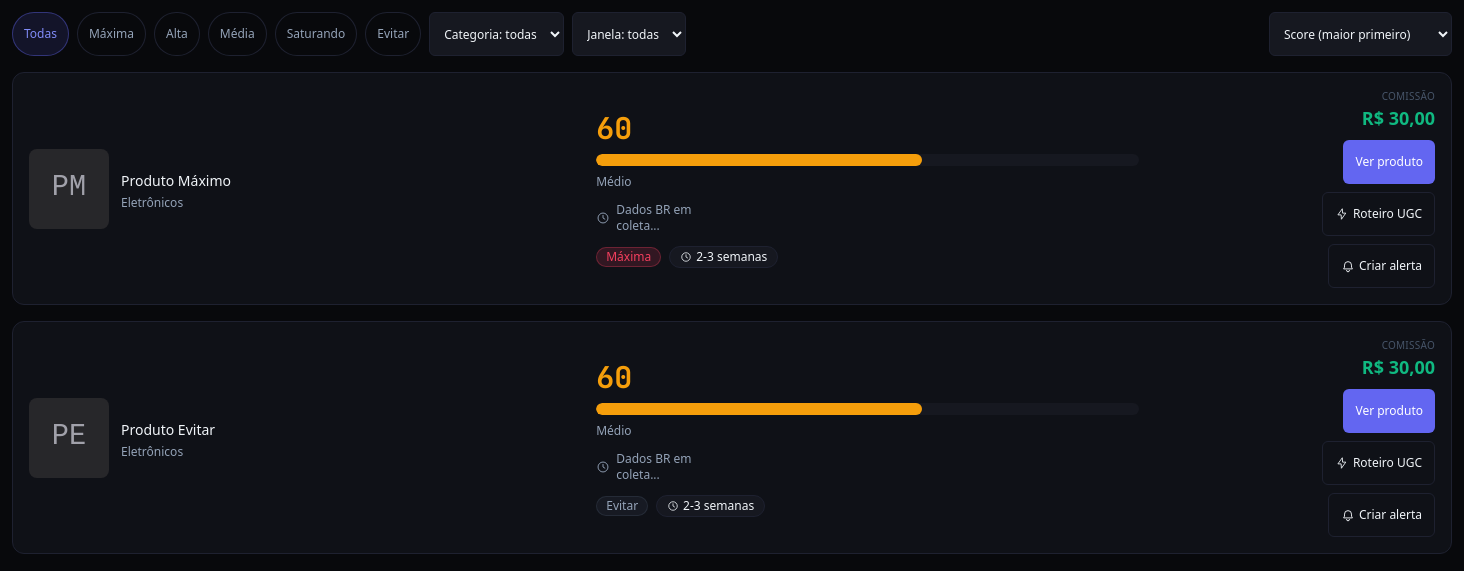
it: <OpportunitiesView /> — PRO › filtra por classificação (botão toggle) sem novo fetch
Click the button "Máxima" at (112, 34), box [77,12,146,56]
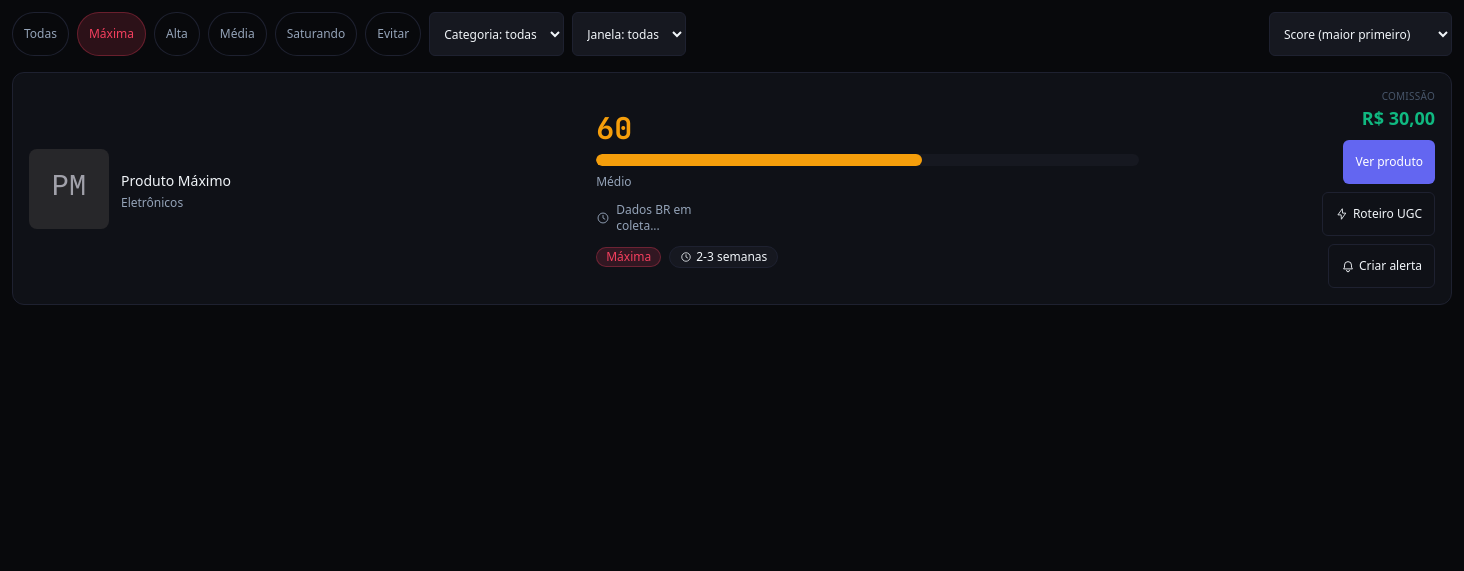
Check: the text "Produto Máximo" is shown, box [121,170,231,190]
Check: the text "Produto Evitar" is gone
